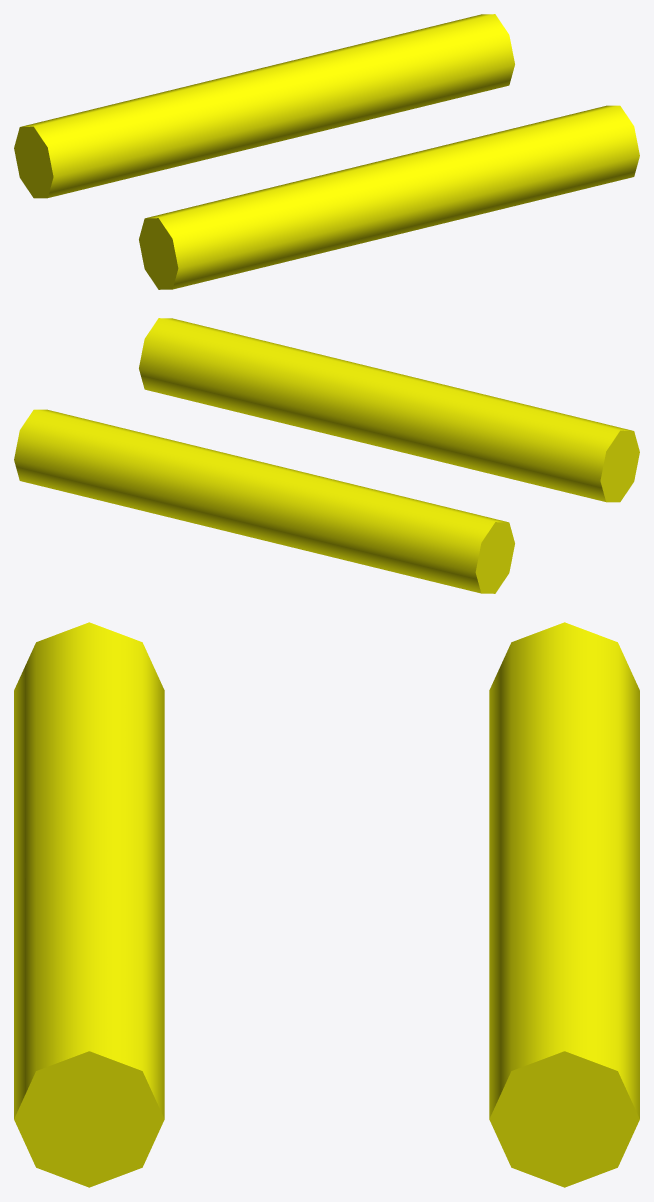
Rendered from SM_BandExtender.FBX.
The picture shows the model from 3 angles, top to bottom: view 1: azimuth 30°, elevation 25°; view 2: azimuth 150°, elevation 25°; view 3: azimuth 270°, elevation 25°; orthographic projection. The views are drawn at different scales.
Parts seen in each view (by area): view 1: SM_BandExtender; view 2: SM_BandExtender; view 3: SM_BandExtender.
Boxes of the visible parts, <box> form: SM_BandExtender: <box>14,14,639,289</box>; SM_BandExtender: <box>14,318,639,593</box>; SM_BandExtender: <box>14,622,639,1187</box>.
Size of the model in its own units: 100 by 61.69 by 14.85.
